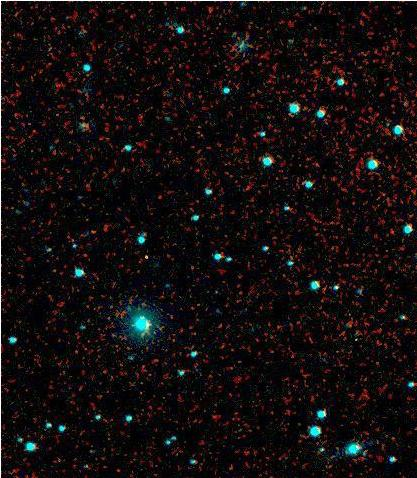star: (133, 241, 163, 271)
